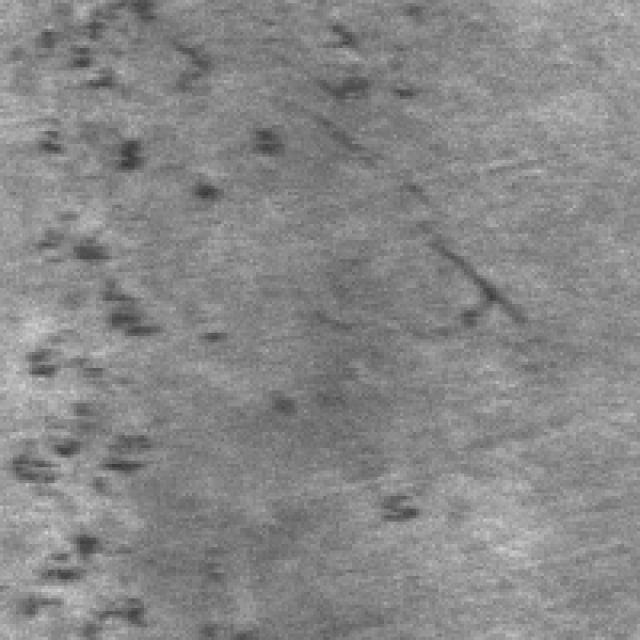rolled-in_scale: (3, 0, 170, 627), (154, 16, 416, 198)
